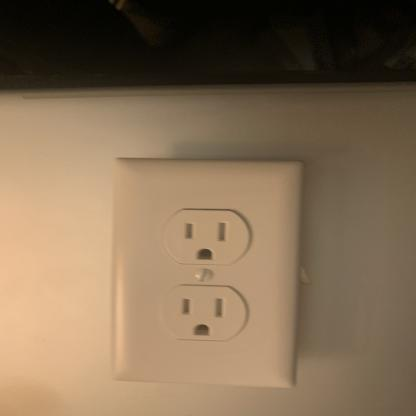OUTLET: (112, 161, 302, 384)
